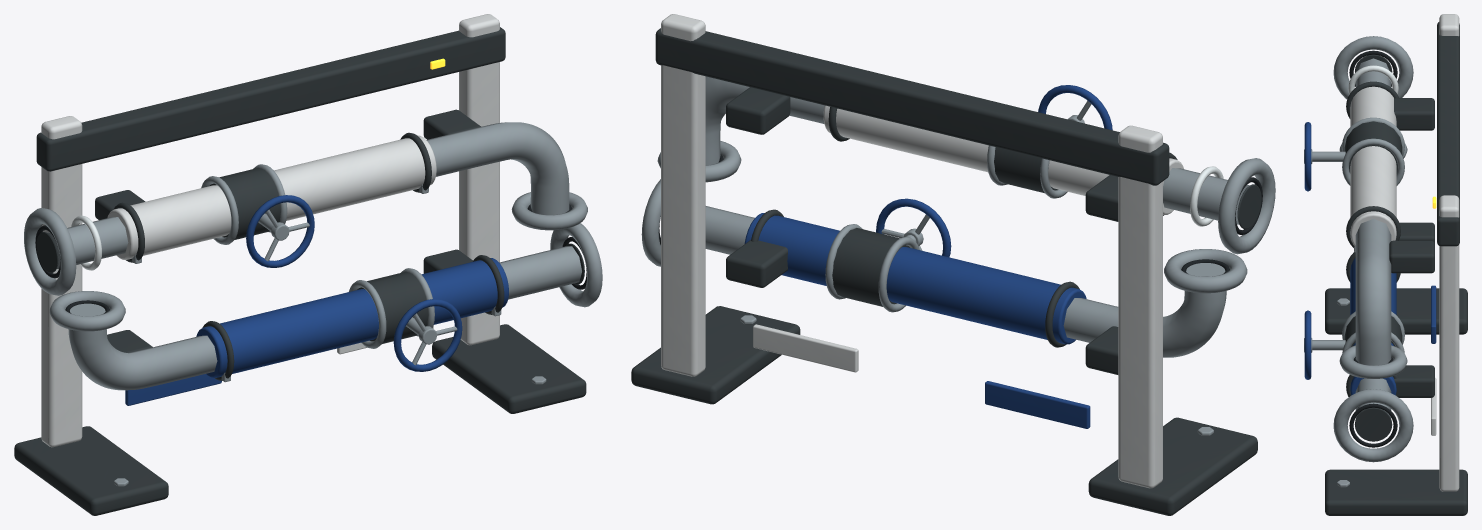
File: 10_coolant_manifold_elbow.gltf
3 renders of one model, left to right at view 1: azimuth 30°, elevation 25°; view 2: azimuth 150°, elevation 25°; view 3: azimuth 270°, elevation 25°, orthographic. The views are drawn at different scales.
Visible parts, largest first — view 1: 10_Cryo_Anodized_Frame, 10_Cryo_Brushed_Steel, 10_Cryo_Ceramic_Enamel, 10_Cryo_Cobalt_Enamel, 10_Cryo_EPDM_Gasket; view 2: 10_Cryo_Anodized_Frame, 10_Cryo_Ceramic_Enamel, 10_Cryo_Brushed_Steel, 10_Cryo_Cobalt_Enamel; view 3: 10_Cryo_Anodized_Frame, 10_Cryo_Brushed_Steel, 10_Cryo_Ceramic_Enamel, 10_Cryo_Cobalt_Enamel, 10_Cryo_EPDM_Gasket, 10_Cryo_Selective_Frost.
Part boxes in pixels (x1,y1,x2,y2): 10_Cryo_Anodized_Frame: (14,27,586,515); 10_Cryo_Brushed_Steel: (24,122,602,486); 10_Cryo_Ceramic_Enamel: (41,14,499,447); 10_Cryo_Cobalt_Enamel: (125,195,508,405); 10_Cryo_EPDM_Gasket: (35,204,586,313); 10_Cryo_Anodized_Frame: (631,28,1261,515); 10_Cryo_Ceramic_Enamel: (661,14,1183,488); 10_Cryo_Brushed_Steel: (641,76,1275,435); 10_Cryo_Cobalt_Enamel: (744,85,1112,428); 10_Cryo_Anodized_Frame: (1325,22,1467,515); 10_Cryo_Brushed_Steel: (1304,36,1413,487); 10_Cryo_Ceramic_Enamel: (1350,14,1459,491); 10_Cryo_Cobalt_Enamel: (1304,122,1436,395); 10_Cryo_EPDM_Gasket: (1349,50,1397,447); 10_Cryo_Selective_Frost: (1348,65,1398,94).
Size of the model in its own units: 1.94 by 1.16 by 0.573.
Materials: 7 (5 with a texture image).
